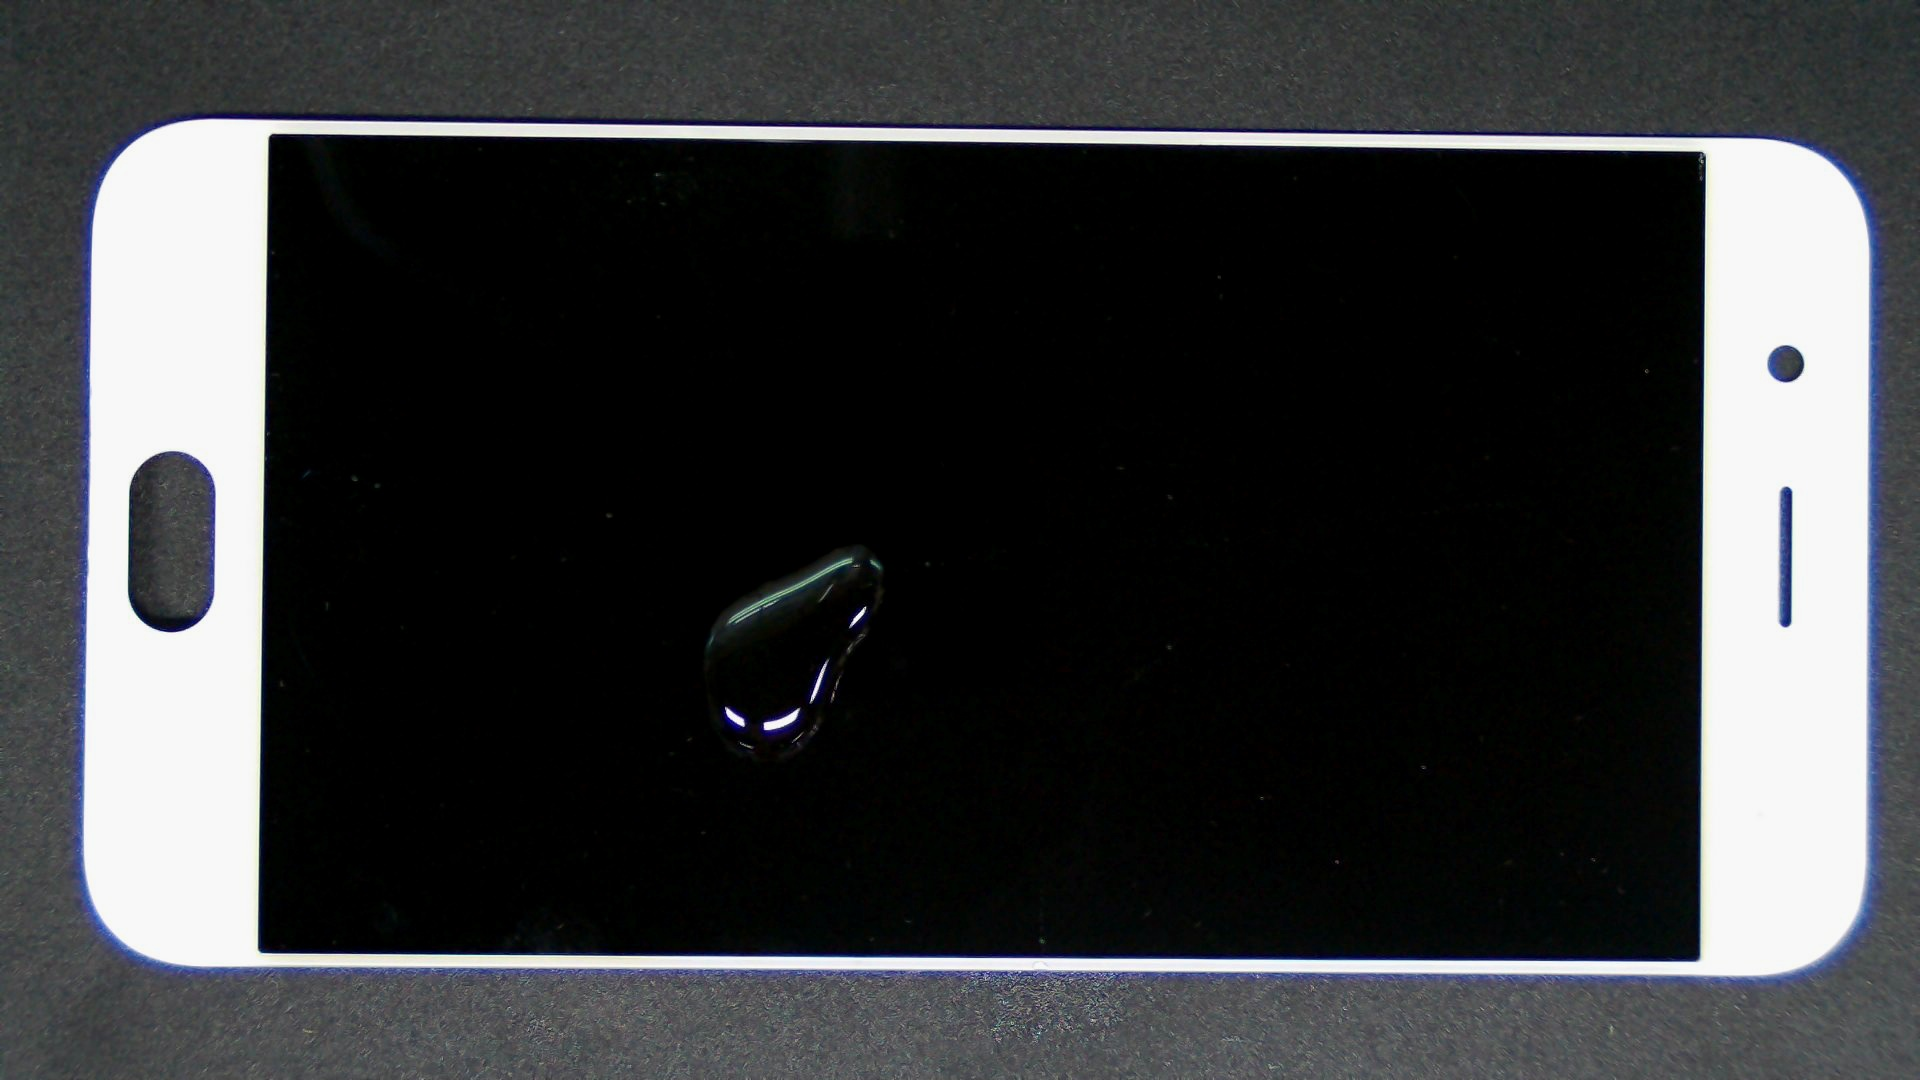oil: (429, 272, 1282, 816)
